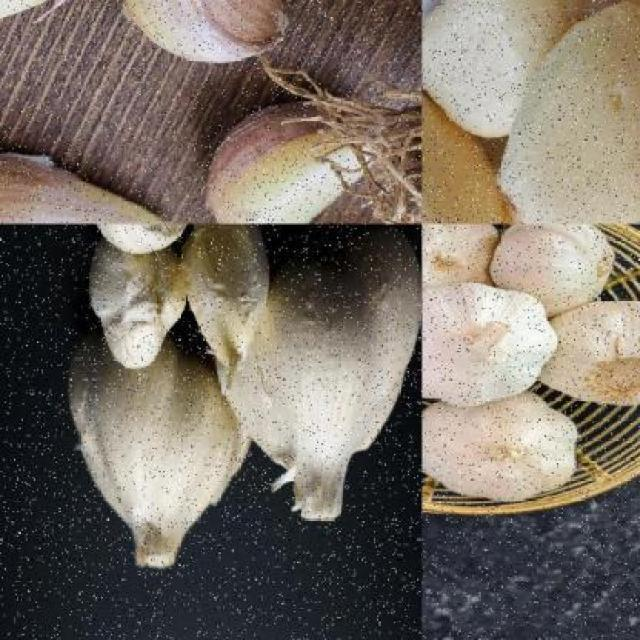garlic: (222, 224, 422, 524), (422, 0, 640, 223), (67, 336, 253, 574), (202, 62, 384, 222), (0, 103, 203, 223), (422, 392, 580, 506), (422, 285, 556, 407), (177, 224, 266, 376), (513, 298, 639, 404), (81, 244, 187, 364), (497, 223, 620, 314), (128, 0, 287, 63), (422, 224, 504, 312), (88, 224, 192, 258)
